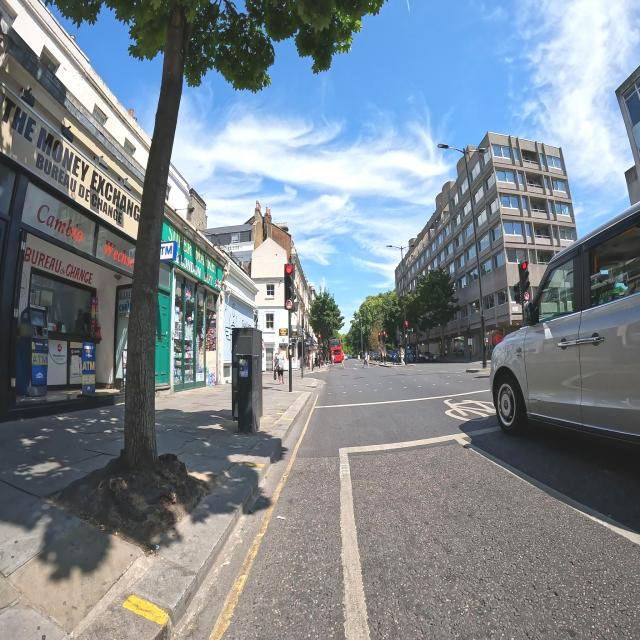car: (489, 185, 640, 473), (418, 350, 435, 362)
